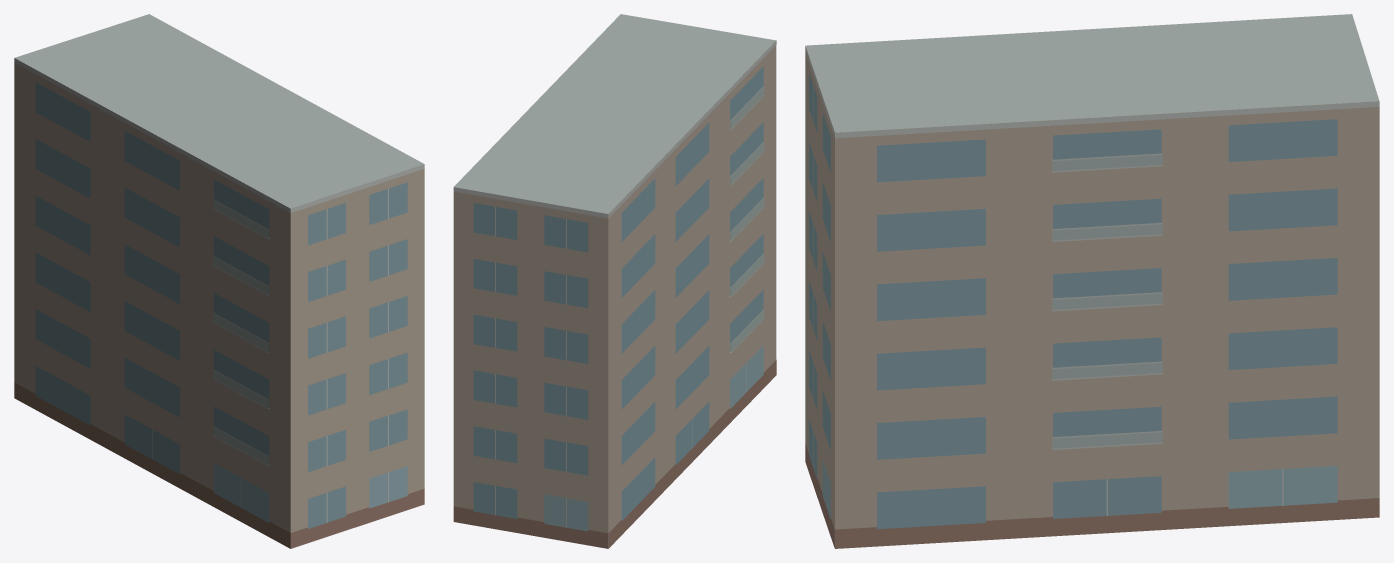
Rendered from survey-upis-32722055.glb.
3 renders of one model, left to right at view 1: azimuth 30°, elevation 25°; view 2: azimuth 150°, elevation 25°; view 3: azimuth 270°, elevation 25°, orthographic. The views are drawn at different scales.
Parts seen in each view (by area): view 1: survey-upis-32722055.tmp; view 2: survey-upis-32722055.tmp; view 3: survey-upis-32722055.tmp.
Boxes of the visible parts, bbox=[...] form: survey-upis-32722055.tmp: bbox=[14, 14, 424, 548]; survey-upis-32722055.tmp: bbox=[453, 14, 776, 548]; survey-upis-32722055.tmp: bbox=[805, 14, 1379, 548].
Bounding box in the file's own units: 11.21 × 18.3 × 22.9.
